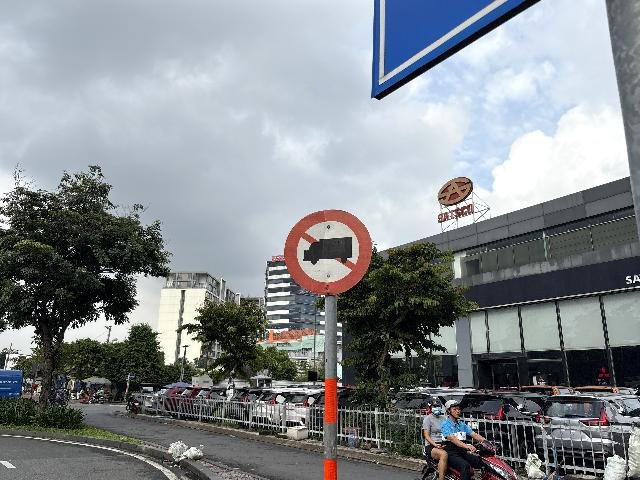cam-xe-tai: (283, 209, 373, 296)
